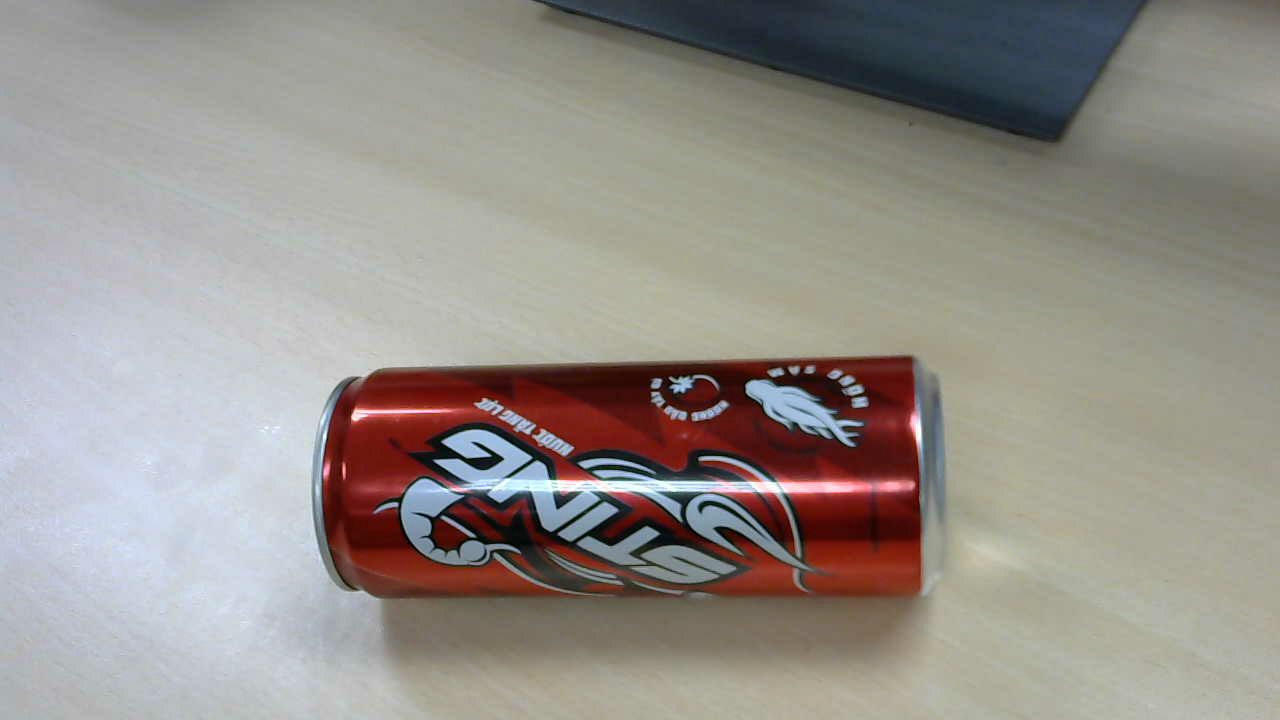Sting: (322, 350, 946, 607)
